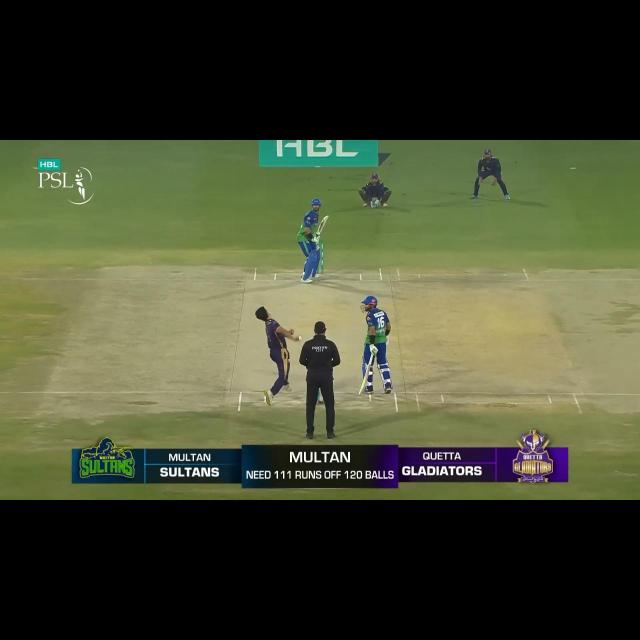bat: (359, 365, 370, 394), (317, 216, 329, 234)
toe: (358, 389, 363, 394), (324, 215, 329, 219)
